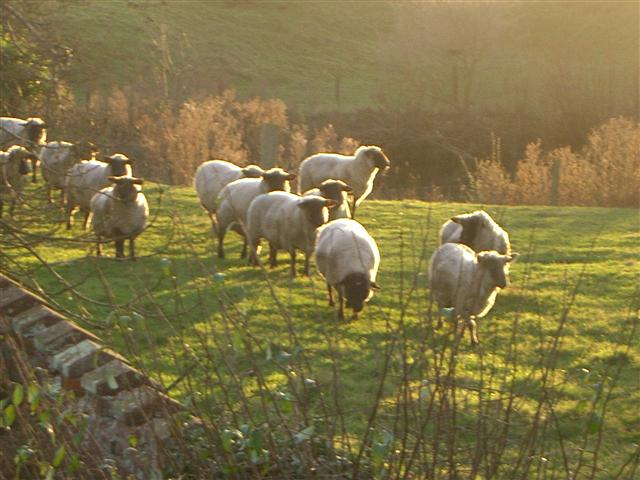sheep: (426, 239, 513, 345), (210, 167, 297, 261), (244, 189, 333, 278), (296, 144, 388, 222), (313, 218, 380, 322), (437, 207, 510, 302), (194, 157, 267, 237), (88, 176, 151, 262), (37, 135, 98, 205), (1, 116, 49, 182), (1, 144, 35, 216)
